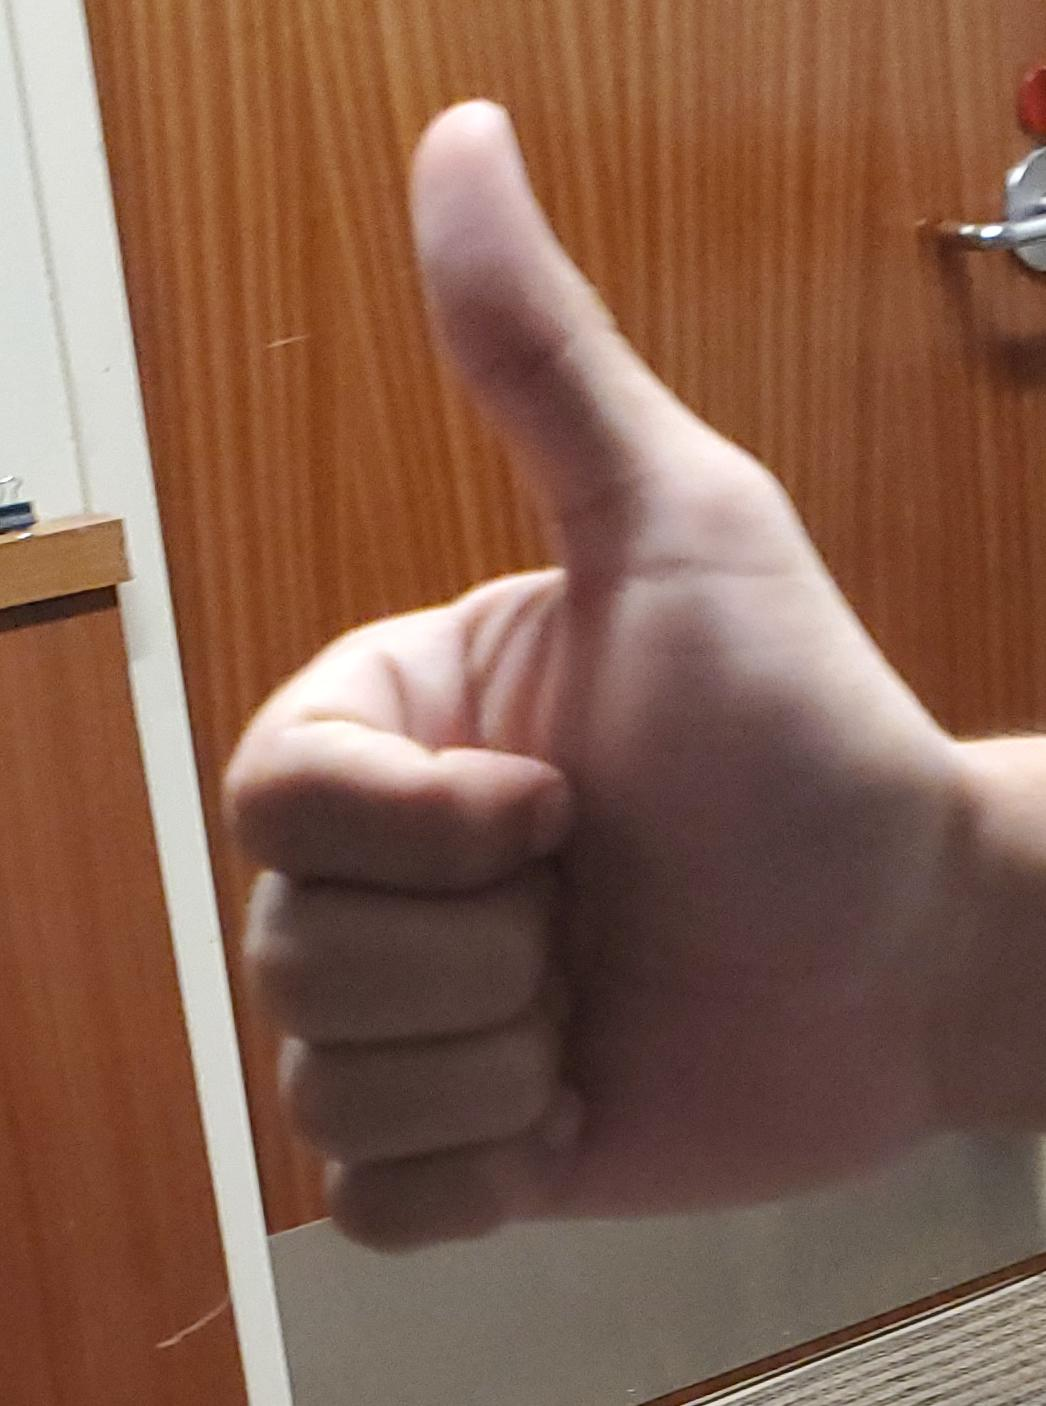up: (0, 1, 1046, 1406)
